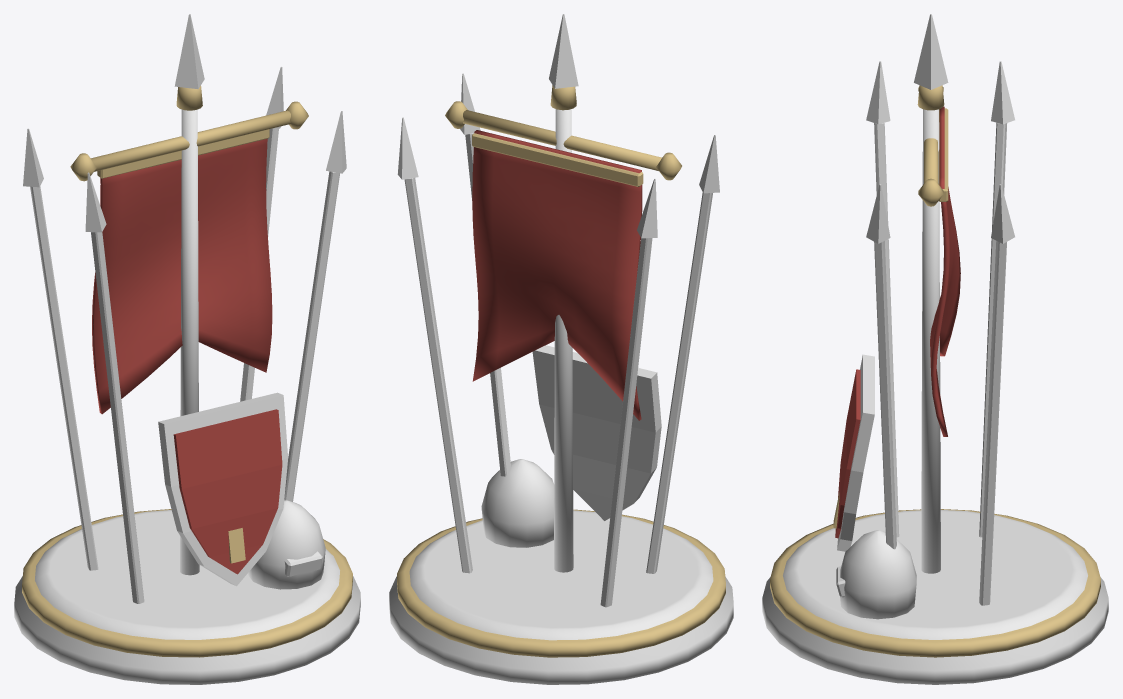
File: pion_armee.fbx
The picture shows the model from 3 angles, left to right: view 1: azimuth 30°, elevation 25°; view 2: azimuth 150°, elevation 25°; view 3: azimuth 270°, elevation 25°; orthographic projection.
Visible parts, largest first — view 1: pion_armee_LOD0; view 2: pion_armee_LOD0; view 3: pion_armee_LOD0.
Part boxes in pixels (x1,y1,x2,y2): pion_armee_LOD0: (14, 14, 360, 684); pion_armee_LOD0: (389, 14, 733, 684); pion_armee_LOD0: (762, 14, 1108, 684).
Size of what is drawn, in the model's own units: 1.56 by 2.97 by 1.56.
